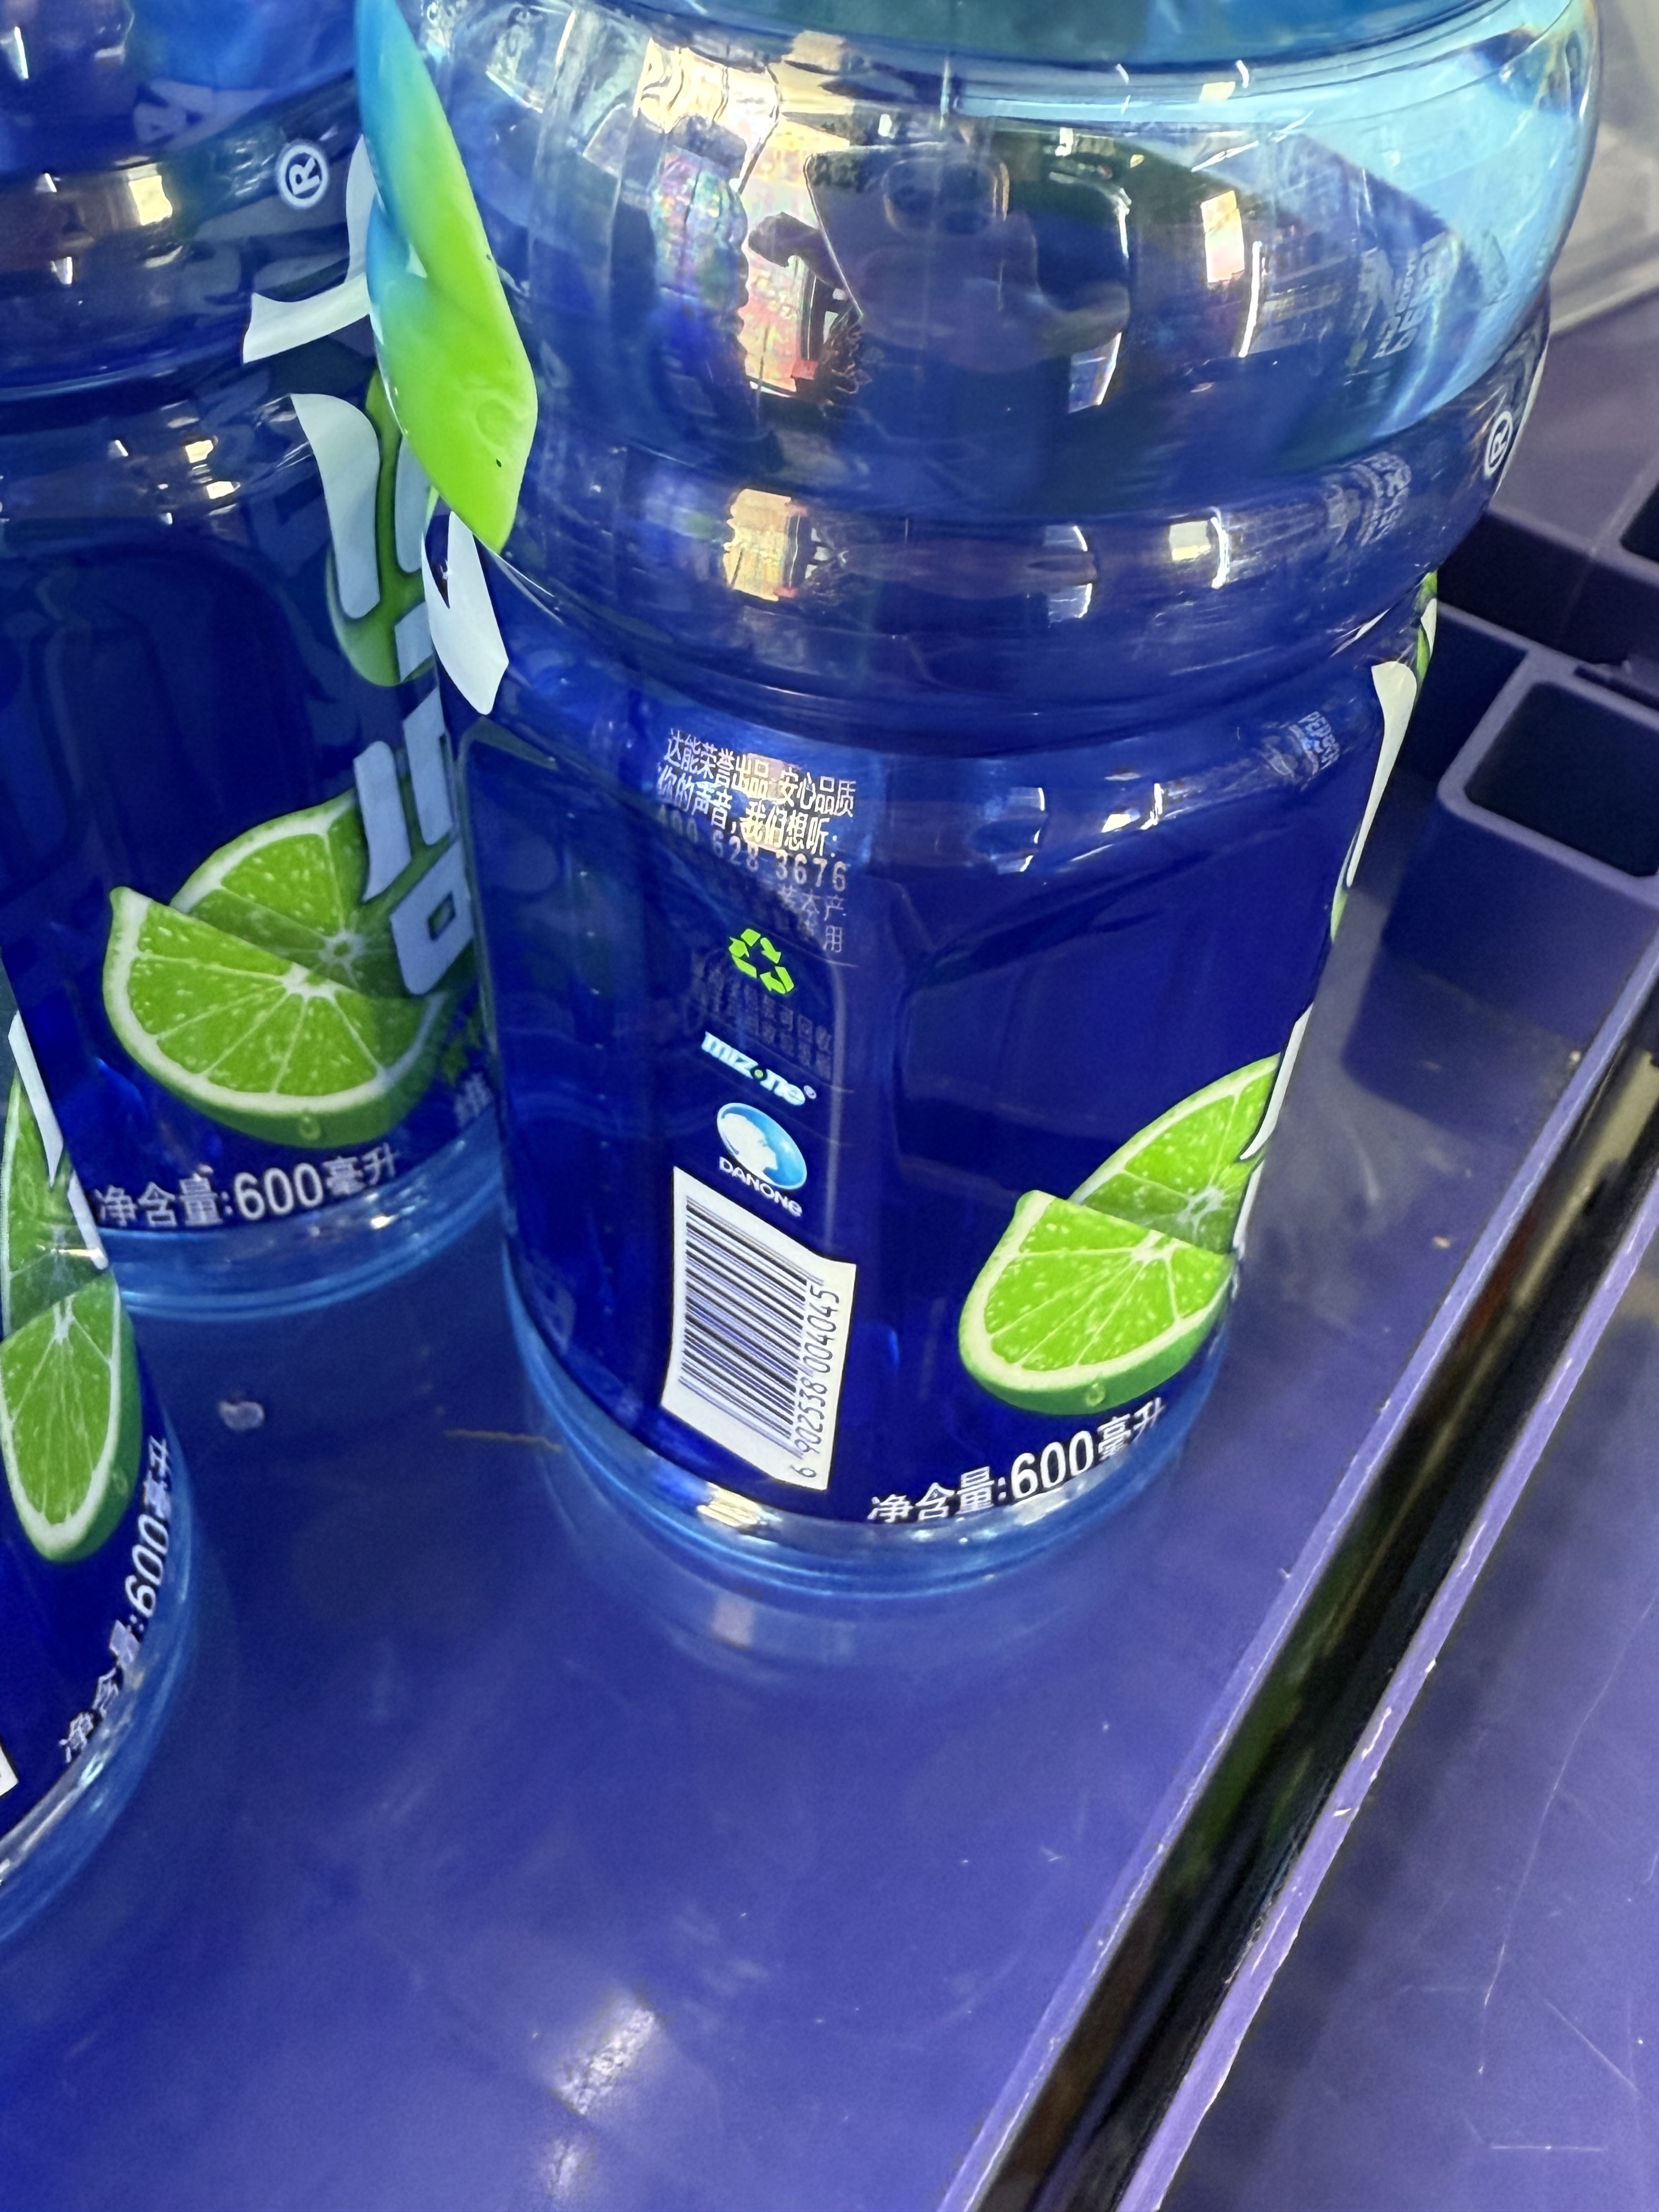bar: (667, 1188, 840, 1472)
